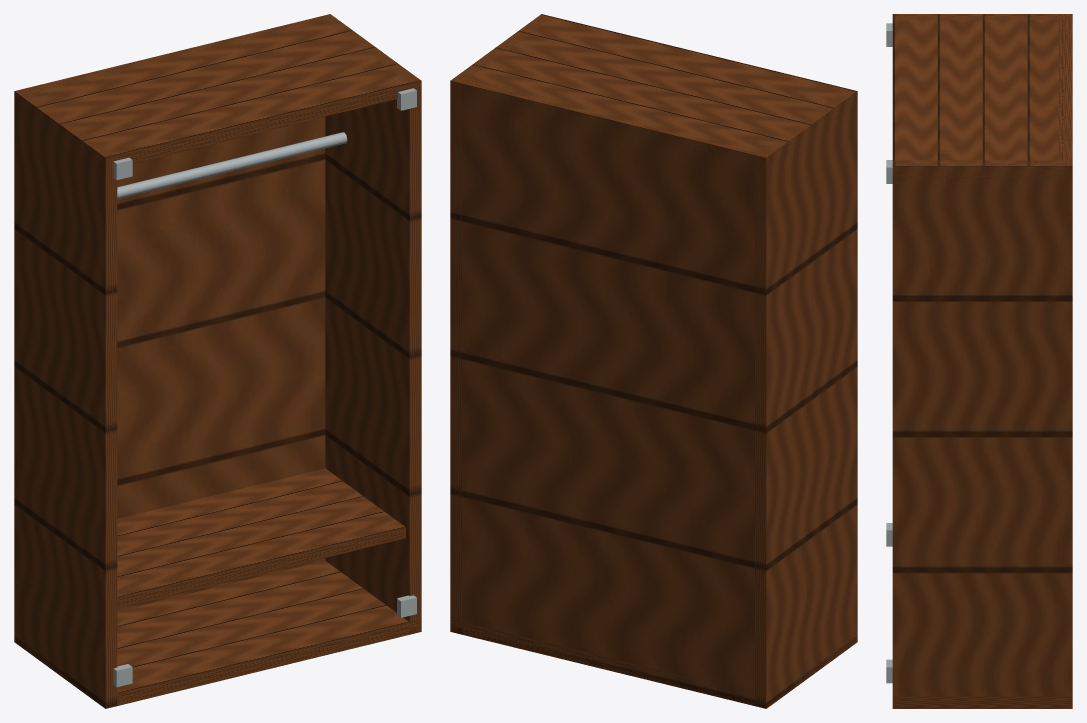
File: suburban-outbreak-interiors-wardrobe-hanging-carcass-bec794d2__19944.glb
3 views of the same model, side by side, from view 1: azimuth 30°, elevation 25°; view 2: azimuth 150°, elevation 25°; view 3: azimuth 270°, elevation 25° (orthographic).
Parts seen in each view (by area): view 1: wardrobe-hanging-carcass; view 2: wardrobe-hanging-carcass; view 3: wardrobe-hanging-carcass.
Part boxes in pixels (x1,y1,x2,y2): wardrobe-hanging-carcass: (14,14,421,708); wardrobe-hanging-carcass: (450,14,857,708); wardrobe-hanging-carcass: (886,14,1072,708).
Size of the model in its own units: 1.2 by 2 by 0.6209.
Materials: 2 (1 with a texture image).
